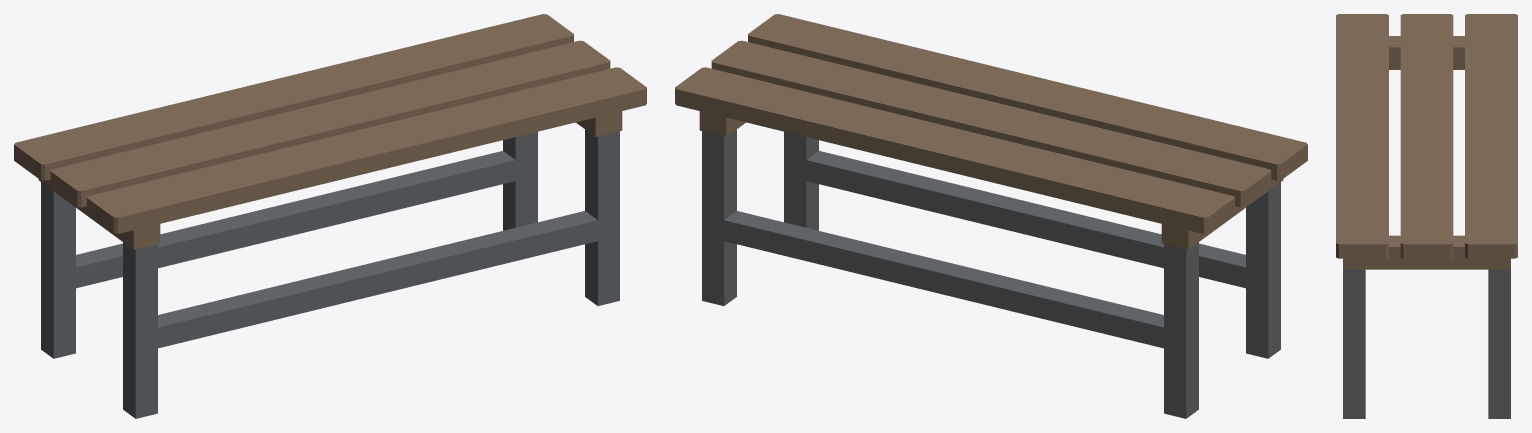
Rendered from picnic_bench.glb.
3 views of the same model, side by side, from view 1: azimuth 30°, elevation 25°; view 2: azimuth 150°, elevation 25°; view 3: azimuth 270°, elevation 25° (orthographic). The views are drawn at different scales.
Visible parts, largest first — view 1: picnic_bench; view 2: picnic_bench; view 3: picnic_bench.
Boxes of the visible parts, <box> form: picnic_bench: <box>14,14,646,418</box>; picnic_bench: <box>675,14,1307,418</box>; picnic_bench: <box>1336,14,1517,418</box>.
Size of the model in its own units: 1.2 by 0.45 by 0.4.
